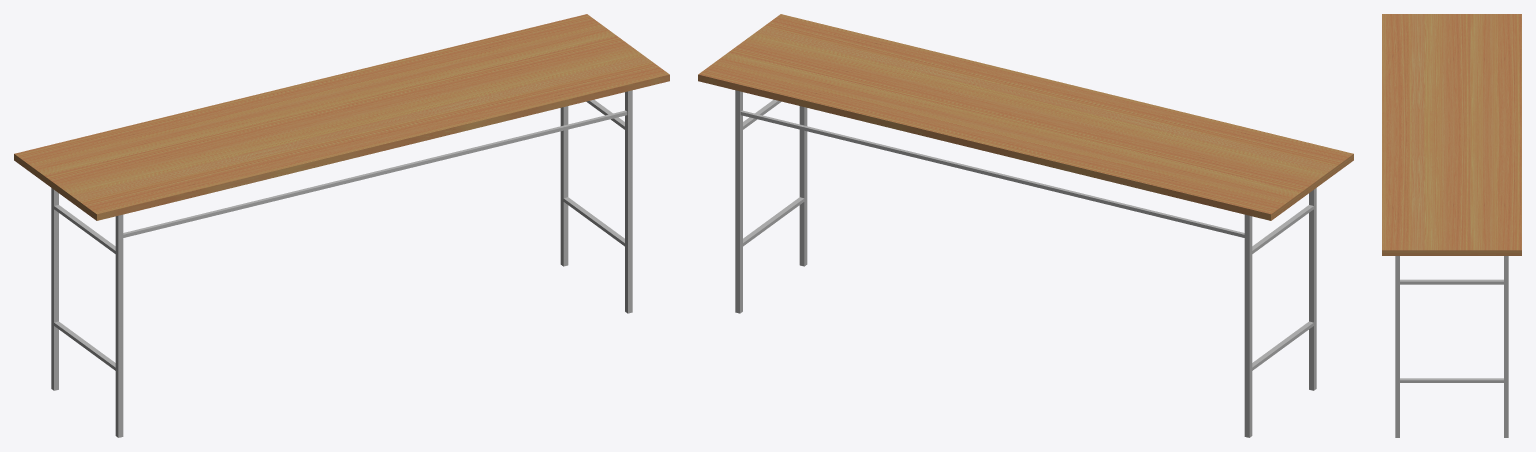
The model's file is LongDesk.glb.
3 renders of one model, left to right at view 1: azimuth 30°, elevation 25°; view 2: azimuth 150°, elevation 25°; view 3: azimuth 270°, elevation 25°, orthographic. The views are drawn at different scales.
Parts seen in each view (by area): view 1: desk_top, desk_bar_top_1to3, desk_leg4, desk_leg2, desk_leg3, desk_leg1; view 2: desk_top, desk_bar_top_2to4, desk_leg3, desk_leg1, desk_leg4, desk_leg2; view 3: desk_top, desk_leg2, desk_leg1, desk_bar_top_1to2, desk_bar_bottom_1to2.
Boxes of the visible parts, x1=… form: desk_top: x1=14, y1=14, x2=669, y2=220; desk_bar_top_1to3: x1=123, y1=110, x2=627, y2=237; desk_leg4: x1=115, y1=214, x2=123, y2=437; desk_leg2: x1=625, y1=90, x2=632, y2=313; desk_leg3: x1=51, y1=188, x2=58, y2=390; desk_leg1: x1=560, y1=106, x2=568, y2=266; desk_top: x1=698, y1=14, x2=1353, y2=220; desk_bar_top_2to4: x1=740, y1=110, x2=1244, y2=237; desk_leg3: x1=1244, y1=214, x2=1252, y2=437; desk_leg1: x1=735, y1=90, x2=742, y2=313; desk_leg4: x1=1309, y1=188, x2=1316, y2=390; desk_leg2: x1=799, y1=106, x2=807, y2=266; desk_top: x1=1382, y1=14, x2=1521, y2=255; desk_leg2: x1=1395, y1=256, x2=1399, y2=437; desk_leg1: x1=1504, y1=256, x2=1508, y2=437; desk_bar_top_1to2: x1=1397, y1=279, x2=1505, y2=284; desk_bar_bottom_1to2: x1=1398, y1=378, x2=1506, y2=382.
Size of the model in its own units: 36 by 14.2 by 9.
Materials: 2 (1 with a texture image).
